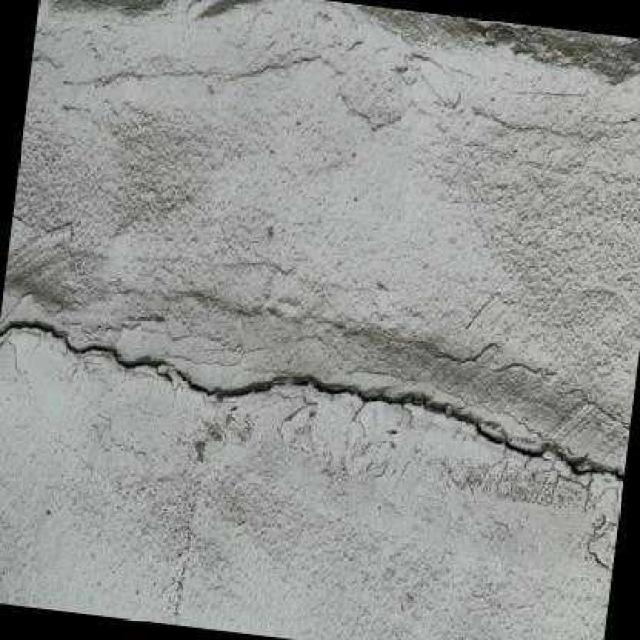D00: (0, 309, 625, 491)
